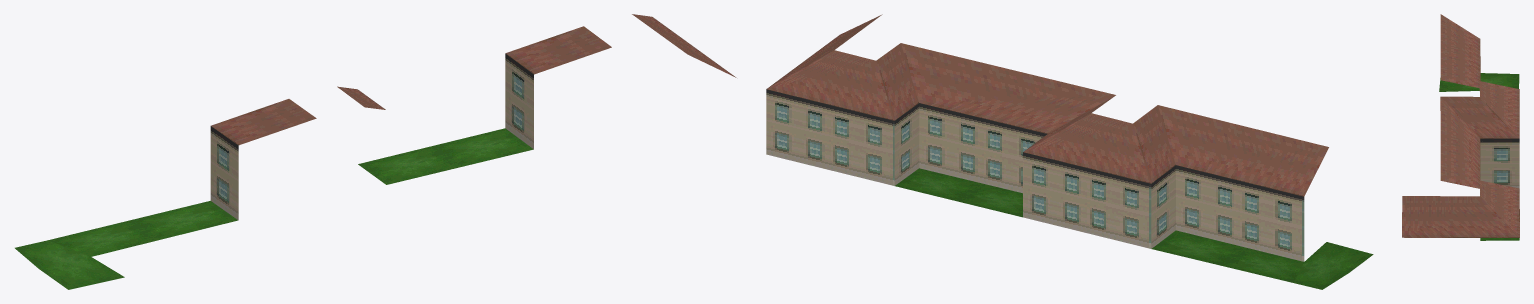
File: AApart01.glb
The picture shows the model from 3 angles, left to right: view 1: azimuth 30°, elevation 25°; view 2: azimuth 150°, elevation 25°; view 3: azimuth 270°, elevation 25°; orthographic projection. The views are drawn at different scales.
Parts seen in each view (by area): view 1: AApart01; view 2: AApart01; view 3: AApart01.
Boxes of the visible parts, <box> form: AApart01: <box>15,14,736,289</box>; AApart01: <box>766,14,1373,289</box>; AApart01: <box>1402,14,1519,240</box>.
Bounding box in the file's own units: 11240 × 1879 × 2579.
Materials: 2 (2 with a texture image).
